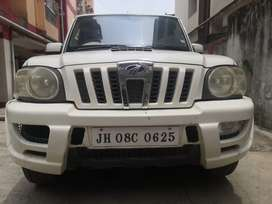JH08C0625: (92, 127, 178, 146)
